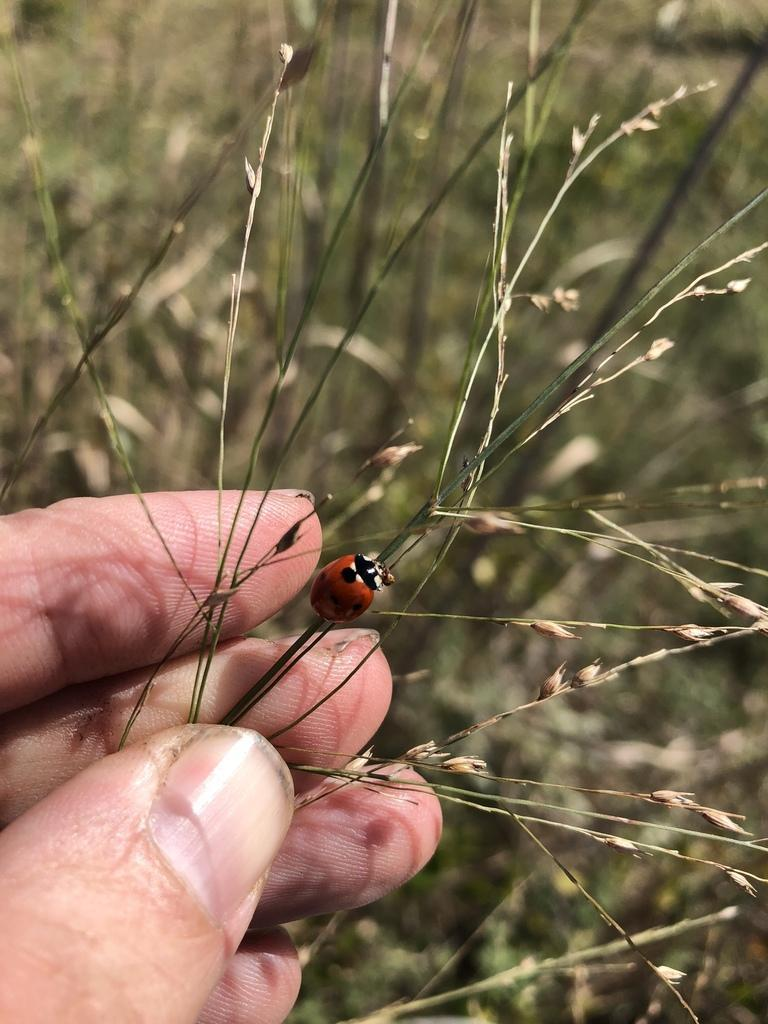ladybug: (308, 551, 400, 627)
